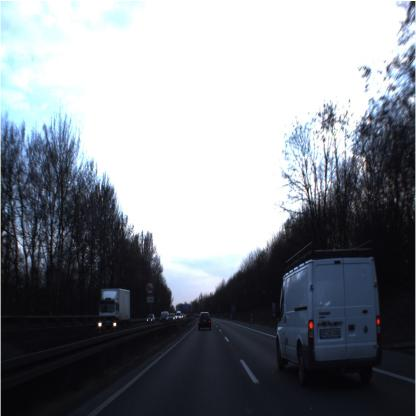no overtaking: (145, 280, 155, 296)
